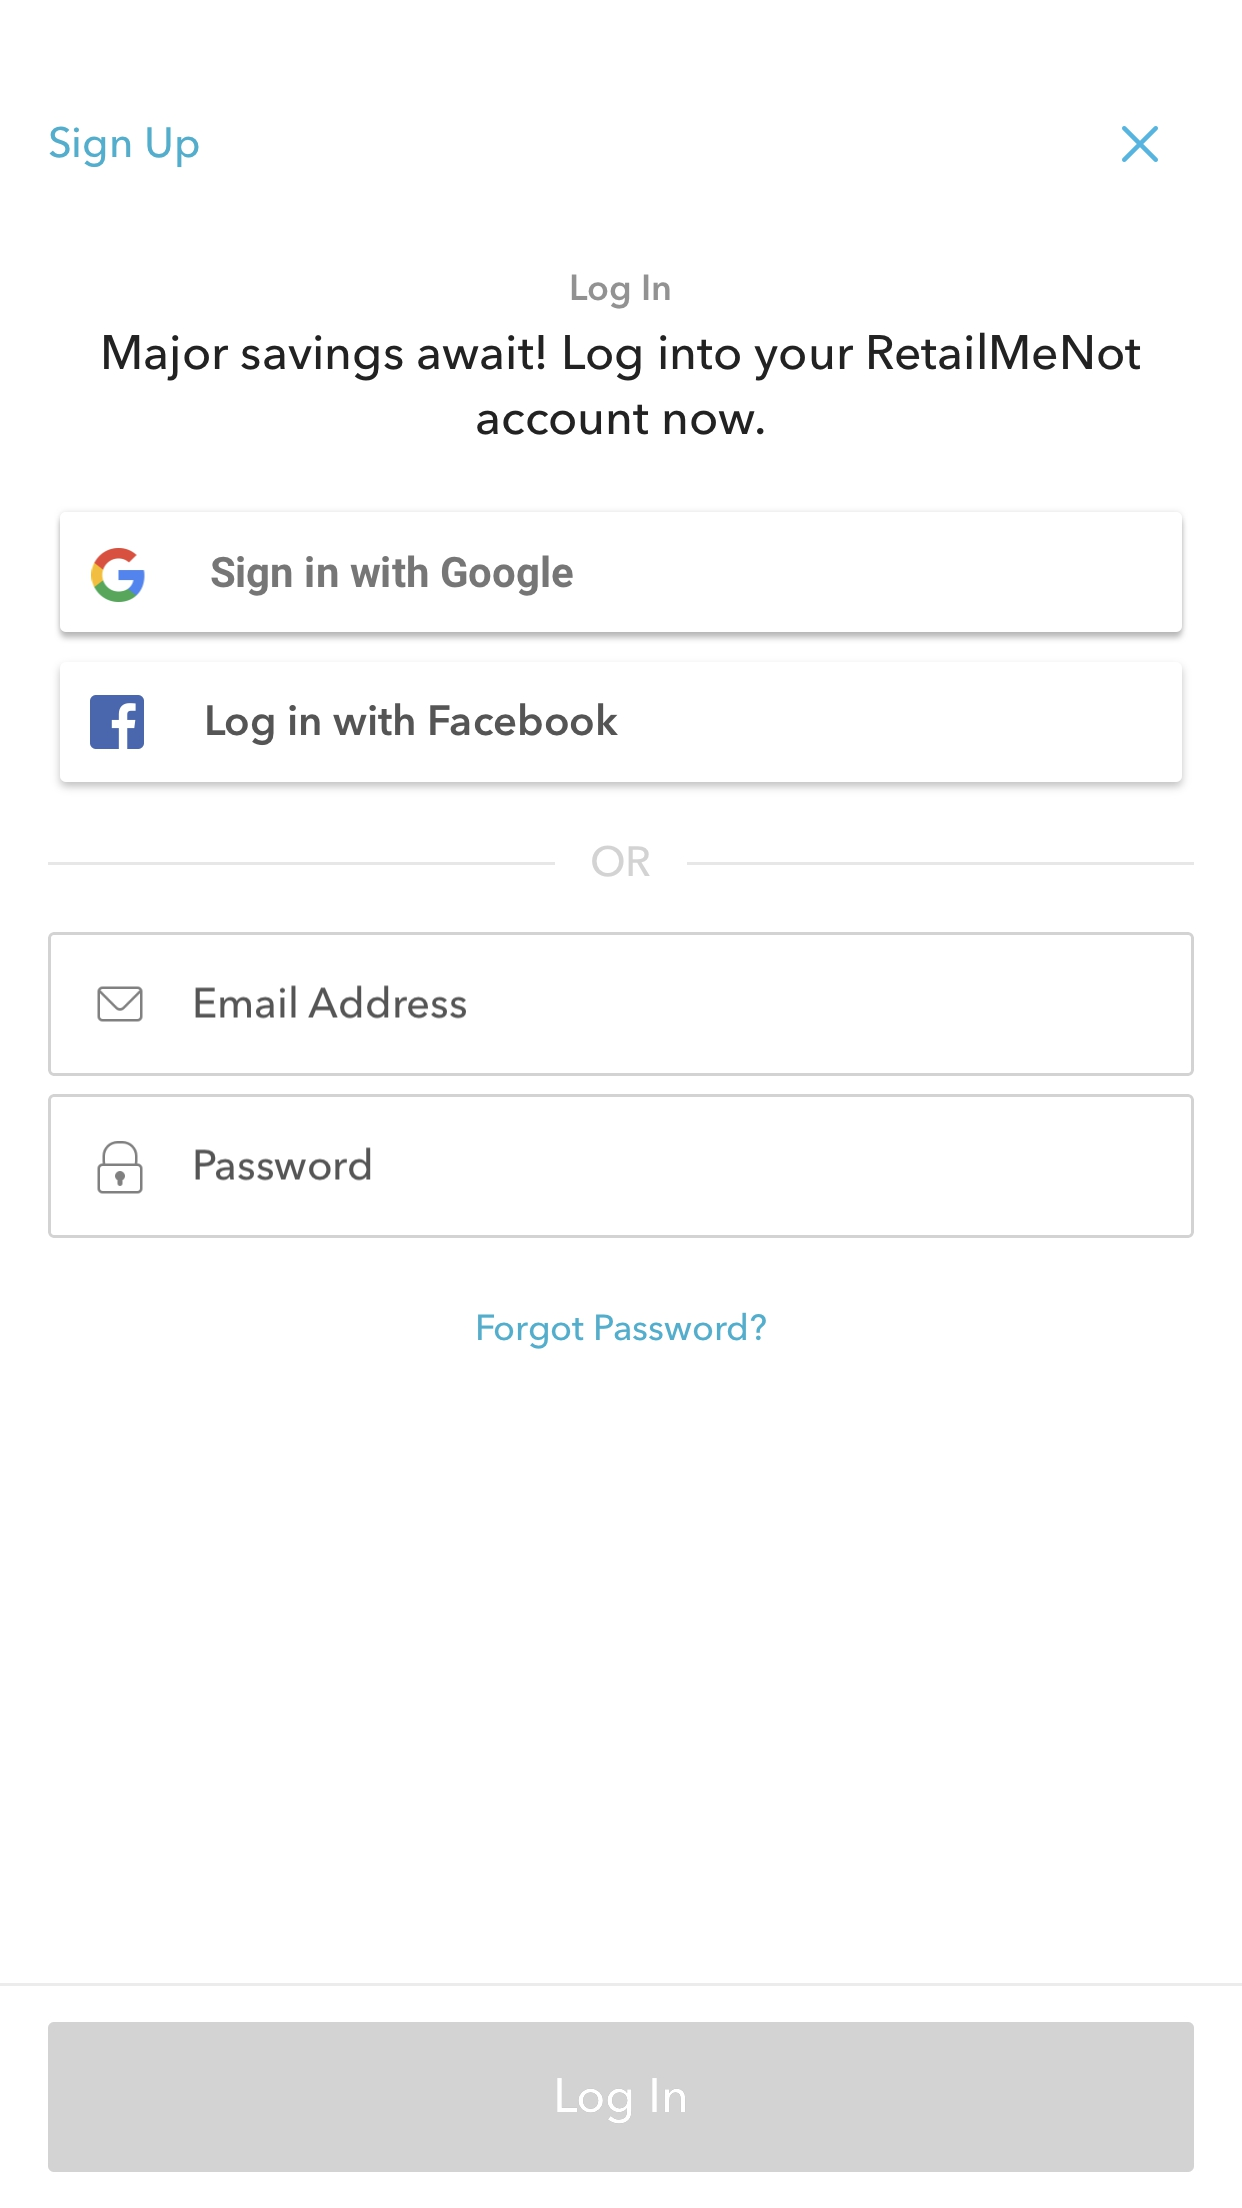EditText: (49, 933, 1193, 1077), (49, 1095, 1193, 1239)
Icon: (99, 1142, 144, 1195), (99, 987, 144, 1024), (1121, 127, 1159, 165)
Text: (105, 334, 1140, 437), (478, 1313, 767, 1350), (196, 986, 467, 1021), (50, 126, 200, 168), (196, 1146, 372, 1181), (572, 273, 670, 309), (593, 845, 651, 878)
TextButton: (49, 2021, 1193, 2172), (61, 513, 1181, 632), (61, 663, 1181, 783)
